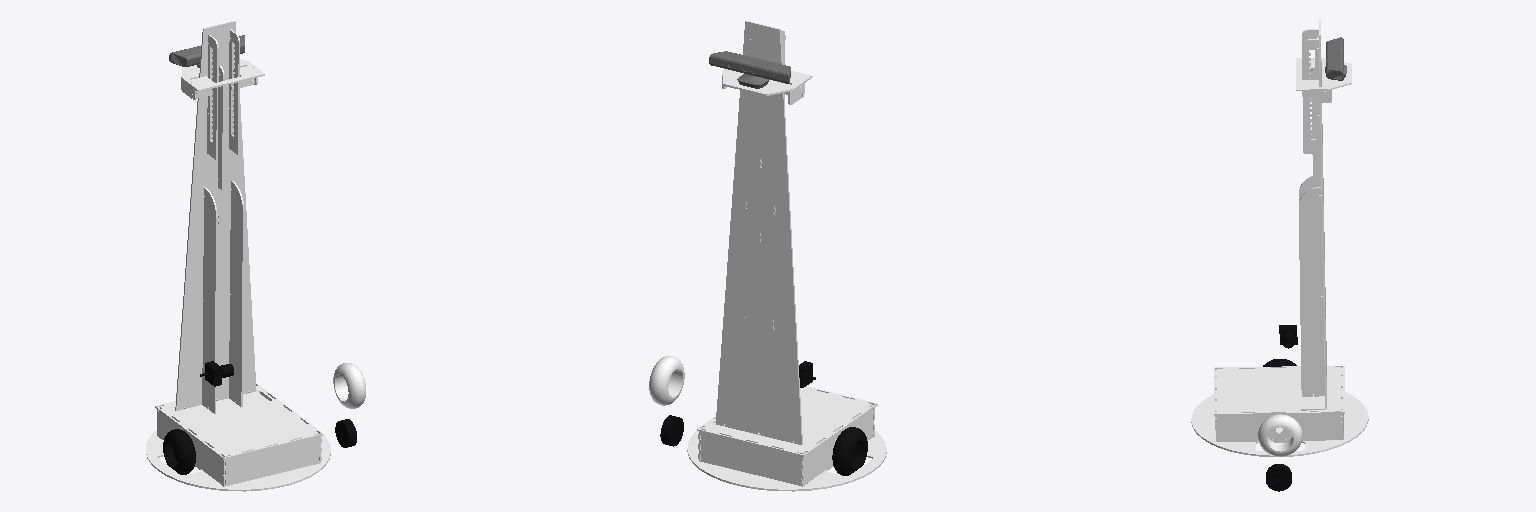
--- Facts derived from the render (not from the file) ---
The picture shows the robot from 3 angles, left to right: view 1: azimuth 30°, elevation 25°; view 2: azimuth 150°, elevation 25°; view 3: azimuth 270°, elevation 25°; orthographic projection.
Robot: robot_desc2 — 25 links, 24 joints (2 continuous, 22 fixed); root link base_link; default pose: every joint at zero.
Links seen in each view (by area): view 1: BBone, UWall, LBBone, RBBone, FWall, base_link, LWheel, LElevator, RWheel, RWall, RElevator, Stage (+3 smaller); view 2: BBone, UWall, BWall, base_link, Kinect, LWheel, RWheel, RWall, Stage, LHolder; view 3: UWall, LBBone, base_link, LWall, LElevator, LWheel, Stage, BBone, Kinect, LHolder.
Boxes of the visible links, left/top/right/bottom form: BBone: left=175, top=21, right=256, bottom=410; UWall: left=155, top=383, right=322, bottom=459; LBBone: left=229, top=181, right=244, bottom=407; RBBone: left=202, top=187, right=217, bottom=413; FWall: left=223, top=436, right=320, bottom=486; base_link: left=146, top=427, right=330, bottom=491; LWheel: left=333, top=363, right=365, bottom=408; LElevator: left=229, top=29, right=239, bottom=154; RWheel: left=163, top=429, right=195, bottom=474; RWall: left=157, top=411, right=224, bottom=485; RElevator: left=207, top=35, right=218, bottom=159; Stage: left=181, top=59, right=264, bottom=91; BBone: left=716, top=21, right=802, bottom=444; UWall: left=697, top=386, right=877, bottom=456; BWall: left=699, top=432, right=803, bottom=486; base_link: left=687, top=431, right=886, bottom=491; Kinect: left=709, top=51, right=790, bottom=88; LWheel: left=649, top=356, right=684, bottom=405; RWheel: left=832, top=427, right=867, bottom=475; RWall: left=801, top=409, right=873, bottom=485; Stage: left=722, top=69, right=812, bottom=95; LHolder: left=660, top=415, right=683, bottom=446; UWall: left=1214, top=366, right=1344, bottom=415; LBBone: left=1299, top=187, right=1324, bottom=396; base_link: left=1191, top=392, right=1368, bottom=456; LWall: left=1215, top=414, right=1343, bottom=442; LElevator: left=1302, top=39, right=1320, bottom=153; LWheel: left=1258, top=414, right=1302, bottom=456; Stage: left=1296, top=58, right=1351, bottom=90; BBone: left=1319, top=20, right=1326, bottom=408; Kinect: left=1325, top=37, right=1346, bottom=80; LHolder: left=1266, top=464, right=1291, bottom=491.
Size in the robot's own frame: 0.7472 by 0.5995 by 1.54 metres.
Meshes: 24 distinct files referenced, 24 mesh visuals loaded (24 binary STL).

The robot description file, URDF, robot "robot_desc2":
<?xml version="1.0" encoding="utf-8"?>
<!-- This URDF was automatically created by SolidWorks to URDF Exporter! Originally created by Stephen Brawner ([email redacted]) 
     Commit Version: 1.6.0-1-g15f4949  Build Version: 1.6.7594.29634
     For more information, please see http://wiki.ros.org/sw_urdf_exporter -->
<robot
  name="robot_desc2">
  <link
    name="base_link">
    <inertial>
      <origin
        xyz="-0.00309 0.032154 -0.00080422"
        rpy="0 0 0" />
      <mass
        value="1.5096" />
      <inertia
        ixx="0.036974"
        ixy="-4.5139E-09"
        ixz="2.8E-07"
        iyy="0.066747"
        iyz="0.00059586"
        izz="0.029801" />
    </inertial>
    <visual>
      <origin
        xyz="0 0 0"
        rpy="0 0 0" />
      <geometry>
        <mesh
          filename="package://robot_desc2/meshes/base_link.STL" />
      </geometry>
      <material
        name="">
        <color
          rgba="1 1 1 1" />
      </material>
    </visual>
    <collision>
      <origin
        xyz="0 0 0"
        rpy="0 0 0" />
      <geometry>
        <mesh
          filename="package://robot_desc2/meshes/base_link.STL" />
      </geometry>
    </collision>
  </link>
  <link
    name="RWall">
    <inertial>
      <origin
        xyz="-0.26007 0.30935 0.054624"
        rpy="0 0 0" />
      <mass
        value="0.25993" />
      <inertia
        ixx="0.0042142"
        ixy="8.2698E-19"
        ixz="-8.7535E-21"
        iyy="0.00023376"
        iyz="-3.1975E-08"
        izz="0.003982" />
    </inertial>
    <visual>
      <origin
        xyz="0 0 0"
        rpy="0 0 0" />
      <geometry>
        <mesh
          filename="package://robot_desc2/meshes/RWall.STL" />
      </geometry>
      <material
        name="">
        <color
          rgba="1 1 1 1" />
      </material>
    </visual>
    <collision>
      <origin
        xyz="0 0 0"
        rpy="0 0 0" />
      <geometry>
        <mesh
          filename="package://robot_desc2/meshes/RWall.STL" />
      </geometry>
    </collision>
  </link>
  <joint
    name="RWall_J"
    type="fixed">
    <origin
      xyz="0.082219 -0.30717 0.024187"
      rpy="0.016122 0 0" />
    <parent
      link="base_link" />
    <child
      link="RWall" />
    <axis
      xyz="0 0 0" />
  </joint>
  <link
    name="RMotor">
    <inertial>
      <origin
        xyz="0.0635746027198063 0.3093063 0.0369188809232349"
        rpy="0 0 0" />
      <mass
        value="0.174311166935646" />
      <inertia
        ixx="7.63049300613636E-05"
        ixy="-2.91448817026934E-20"
        ixz="-8.64726401443752E-07"
        iyy="0.000129582523229778"
        iyz="-2.11758236813575E-22"
        izz="0.000129389175352264" />
    </inertial>
    <visual>
      <origin
        xyz="0 0 0"
        rpy="0 0 0" />
      <geometry>
        <mesh
          filename="package://robot_desc2/meshes/RMotor.STL" />
      </geometry>
      <material
        name="">
        <color
          rgba="0.0980392156862745 0.0980392156862745 0.0980392156862745 1" />
      </material>
    </visual>
    <collision>
      <origin
        xyz="0 0 0"
        rpy="0 0 0" />
      <geometry>
        <mesh
          filename="package://robot_desc2/meshes/RMotor.STL" />
      </geometry>
    </collision>
  </link>
  <joint
    name="RMotor_J"
    type="fixed">
    <origin
      xyz="-0.16351 0.61861 0"
      rpy="0 0 3.1416" />
    <parent
      link="RWall" />
    <child
      link="RMotor" />
    <axis
      xyz="0 0 0" />
  </joint>
  <link
    name="RHolder">
    <inertial>
      <origin
        xyz="-0.015 -1.3878E-17 -6.5052E-19"
        rpy="0 0 0" />
      <mass
        value="0.18623" />
      <inertia
        ixx="0.00019312"
        ixy="2.5799E-37"
        ixz="1.9015E-20"
        iyy="0.00011053"
        iyz="3.7377E-37"
        izz="0.00011053" />
    </inertial>
    <visual>
      <origin
        xyz="0 0 0"
        rpy="0 0 0" />
      <geometry>
        <mesh
          filename="package://robot_desc2/meshes/RHolder.STL" />
      </geometry>
      <material
        name="">
        <color
          rgba="0.098039 0.098039 0.098039 1" />
      </material>
    </visual>
    <collision>
      <origin
        xyz="0 0 0"
        rpy="0 0 0" />
      <geometry>
        <mesh
          filename="package://robot_desc2/meshes/RHolder.STL" />
      </geometry>
    </collision>
  </link>
  <joint
    name="RHolder_J"
    type="fixed">
    <origin
      xyz="0.10957 0.30931 0.04693"
      rpy="1.5547 0 3.1416" />
    <parent
      link="RMotor" />
    <child
      link="RHolder" />
    <axis
      xyz="1 0 0" />
  </joint>
  <link
    name="LWall">
    <inertial>
      <origin
        xyz="0.0963656 0.306947014043264 0.0546235621384063"
        rpy="0 0 0" />
      <mass
        value="0.259931483020872" />
      <inertia
        ixx="0.00421417942511159"
        ixy="5.19830171192504E-19"
        ixz="8.96205254962918E-21"
        iyy="0.000233764744170253"
        iyz="-3.19752741135293E-08"
        izz="0.00398197426983946" />
    </inertial>
    <visual>
      <origin
        xyz="0 0 0"
        rpy="0 0 0" />
      <geometry>
        <mesh
          filename="package://robot_desc2/meshes/LWall.STL" />
      </geometry>
      <material
        name="">
        <color
          rgba="1 1 1 1" />
      </material>
    </visual>
    <collision>
      <origin
        xyz="0 0 0"
        rpy="0 0 0" />
      <geometry>
        <mesh
          filename="package://robot_desc2/meshes/LWall.STL" />
      </geometry>
    </collision>
  </link>
  <joint
    name="LWall"
    type="fixed">
    <origin
      xyz="0.082219 -0.30717 0.024187"
      rpy="0.016122 0 0" />
    <parent
      link="base_link" />
    <child
      link="LWall" />
    <axis
      xyz="0 0 0" />
  </joint>
  <link
    name="LMotor">
    <inertial>
      <origin
        xyz="0.0633746027198063 0.3069061 0.036918880923235"
        rpy="0 0 0" />
      <mass
        value="0.174311166935646" />
      <inertia
        ixx="7.63049300613636E-05"
        ixy="-8.61740218545493E-20"
        ixz="-8.64726401443746E-07"
        iyy="0.000129582523229778"
        iyz="-2.11758236813575E-22"
        izz="0.000129389175352264" />
    </inertial>
    <visual>
      <origin
        xyz="0 0 0"
        rpy="0 0 0" />
      <geometry>
        <mesh
          filename="package://robot_desc2/meshes/LMotor.STL" />
      </geometry>
      <material
        name="">
        <color
          rgba="0.0980392156862745 0.0980392156862745 0.0980392156862745 1" />
      </material>
    </visual>
    <collision>
      <origin
        xyz="0 0 0"
        rpy="0 0 0" />
      <geometry>
        <mesh
          filename="package://robot_desc2/meshes/LMotor.STL" />
      </geometry>
    </collision>
  </link>
  <joint
    name="LMotor_J"
    type="fixed">
    <origin
      xyz="0 0 0"
      rpy="0 0 0" />
    <parent
      link="LWall" />
    <child
      link="LMotor" />
    <axis
      xyz="0 0 0" />
  </joint>
  <link
    name="LHolder">
    <inertial>
      <origin
        xyz="0.015 0 -8.67361737988404E-19"
        rpy="0 0 0" />
      <mass
        value="0.186233612504803" />
      <inertia
        ixx="0.000193124256167481"
        ixy="2.57986041235794E-37"
        ixz="1.90147164257299E-20"
        iyy="0.000110529649021601"
        iyz="3.73766126798668E-37"
        izz="0.000110529649021601" />
    </inertial>
    <visual>
      <origin
        xyz="0 0 0"
        rpy="0 0 0" />
      <geometry>
        <mesh
          filename="package://robot_desc2/meshes/LHolder.STL" />
      </geometry>
      <material
        name="">
        <color
          rgba="0.0980392156862745 0.0980392156862745 0.0980392156862745 1" />
      </material>
    </visual>
    <collision>
      <origin
        xyz="0 0 0"
        rpy="0 0 0" />
      <geometry>
        <mesh
          filename="package://robot_desc2/meshes/LHolder.STL" />
      </geometry>
    </collision>
  </link>
  <joint
    name="LHolder_J"
    type="fixed">
    <origin
      xyz="0.10937 0.30691 0.04693"
      rpy="1.5547 0 0" />
    <parent
      link="LMotor" />
    <child
      link="LHolder" />
    <axis
      xyz="1 0 0" />
  </joint>
  <link
    name="FWall">
    <inertial>
      <origin
        xyz="-0.0834212256064657 0.0938861000000002 0.0545396939287937"
        rpy="0 0 0" />
      <mass
        value="0.22086451023762" />
      <inertia
        ixx="0.000198305308587292"
        ixy="-4.89506874945099E-20"
        ixz="-4.72815915055346E-08"
        iyy="0.00254369619199725"
        iyz="6.7762635780344E-21"
        izz="0.00234671607047139" />
    </inertial>
    <visual>
      <origin
        xyz="0 0 0"
        rpy="0 0 0" />
      <geometry>
        <mesh
          filename="package://robot_desc2/meshes/FWall.STL" />
      </geometry>
      <material
        name="">
        <color
          rgba="1 1 1 1" />
      </material>
    </visual>
    <collision>
      <origin
        xyz="0 0 0"
        rpy="0 0 0" />
      <geometry>
        <mesh
          filename="package://robot_desc2/meshes/FWall.STL" />
      </geometry>
    </collision>
  </link>
  <joint
    name="FWall_J"
    type="fixed">
    <origin
      xyz="0.0822192517167714 -0.307167638392834 0.0241874937534729"
      rpy="0.0161222628924041 0 0" />
    <parent
      link="base_link" />
    <child
      link="FWall" />
    <axis
      xyz="0 0 0" />
  </joint>
  <link
    name="BWall">
    <inertial>
      <origin
        xyz="-0.0837958256064657 0.5201261 0.0545396939287938"
        rpy="0 0 0" />
      <mass
        value="0.220864510237622" />
      <inertia
        ixx="0.000198305308587294"
        ixy="-3.63112643371231E-20"
        ixz="-4.72815915055665E-08"
        iyy="0.00254369619199728"
        iyz="-3.3881317890172E-20"
        izz="0.00234671607047141" />
    </inertial>
    <visual>
      <origin
        xyz="0 0 0"
        rpy="0 0 0" />
      <geometry>
        <mesh
          filename="package://robot_desc2/meshes/BWall.STL" />
      </geometry>
      <material
        name="">
        <color
          rgba="1 1 1 1" />
      </material>
    </visual>
    <collision>
      <origin
        xyz="0 0 0"
        rpy="0 0 0" />
      <geometry>
        <mesh
          filename="package://robot_desc2/meshes/BWall.STL" />
      </geometry>
    </collision>
  </link>
  <joint
    name="BWall_J"
    type="fixed">
    <origin
      xyz="0.0822192517167714 -0.307167638392834 0.0241874937534729"
      rpy="0.0161222628924041 0 0" />
    <parent
      link="base_link" />
    <child
      link="BWall" />
    <axis
      xyz="0 0 0" />
  </joint>
  <link
    name="UWall">
    <inertial>
      <origin
        xyz="-0.0848120800930342 0.30577429822358 0.1090994"
        rpy="0 0 0" />
      <mass
        value="0.950849473887881" />
      <inertia
        ixx="0.015160328757964"
        ixy="0.000110416902811185"
        ixz="-2.2446373102239E-20"
        iyy="0.0106172485278987"
        iyz="8.40256683676266E-19"
        izz="0.0257718721890193" />
    </inertial>
    <visual>
      <origin
        xyz="0 0 0"
        rpy="0 0 0" />
      <geometry>
        <mesh
          filename="package://robot_desc2/meshes/UWall.STL" />
      </geometry>
      <material
        name="">
        <color
          rgba="1 1 1 1" />
      </material>
    </visual>
    <collision>
      <origin
        xyz="0 0 0"
        rpy="0 0 0" />
      <geometry>
        <mesh
          filename="package://robot_desc2/meshes/UWall.STL" />
      </geometry>
    </collision>
  </link>
  <joint
    name="UWall_J"
    type="fixed">
    <origin
      xyz="0.0822192517167714 -0.307167638392834 0.0241874937534729"
      rpy="0.0161222628924041 0 0" />
    <parent
      link="base_link" />
    <child
      link="UWall" />
    <axis
      xyz="0 0 0" />
  </joint>
  <link
    name="BBone">
    <inertial>
      <origin
        xyz="-0.0787827178917998 0.4658796 0.687775610420949"
        rpy="0 0 0" />
      <mass
        value="1.69381947157314" />
      <inertia
        ixx="0.241359185522964"
        ixy="-6.54147800672129E-20"
        ixz="-3.75269982353657E-12"
        iyy="0.248752698140501"
        iyz="2.64274279543342E-18"
        izz="0.00740367553436561" />
    </inertial>
    <visual>
      <origin
        xyz="0 0 0"
        rpy="0 0 0" />
      <geometry>
        <mesh
          filename="package://robot_desc2/meshes/BBone.STL" />
      </geometry>
      <material
        name="">
        <color
          rgba="1 1 1 1" />
      </material>
    </visual>
    <collision>
      <origin
        xyz="0 0 0"
        rpy="0 0 0" />
      <geometry>
        <mesh
          filename="package://robot_desc2/meshes/BBone.STL" />
      </geometry>
    </collision>
  </link>
  <joint
    name="BBone_J"
    type="fixed">
    <origin
      xyz="0 0 0"
      rpy="0 0 0" />
    <parent
      link="UWall" />
    <child
      link="BBone" />
    <axis
      xyz="0 0 0" />
  </joint>
  <link
    name="MBBHinge">
    <inertial>
      <origin
        xyz="-0.0787827178879982 0.449178530210602 1.09683396755806"
        rpy="0 0 0" />
      <mass
        value="0.0784521456427975" />
      <inertia
        ixx="0.00123951914226371"
        ixy="6.8939312862355E-21"
        ixz="-5.24214085130467E-19"
        iyy="0.00123363922526243"
        iyz="-1.41602641529675E-06"
        izz="6.35062987513342E-06" />
    </inertial>
    <visual>
      <origin
        xyz="0 0 0"
        rpy="0 0 0" />
      <geometry>
        <mesh
          filename="package://robot_desc2/meshes/MBBHinge.STL" />
      </geometry>
      <material
        name="">
        <color
          rgba="1 1 1 1" />
      </material>
    </visual>
    <collision>
      <origin
        xyz="0 0 0"
        rpy="0 0 0" />
      <geometry>
        <mesh
          filename="package://robot_desc2/meshes/MBBHinge.STL" />
      </geometry>
    </collision>
  </link>
  <joint
    name="MBBHinge_J"
    type="fixed">
    <origin
      xyz="0 0 0"
      rpy="0 0 0" />
    <parent
      link="BBone" />
    <child
      link="MBBHinge" />
    <axis
      xyz="0 0 0" />
  </joint>
  <link
    name="RElevator">
    <inertial>
      <origin
        xyz="-0.118782717887998 0.432755373756842 1.2206750396997"
        rpy="0 0 0" />
      <mass
        value="0.120380143662927" />
      <inertia
        ixx="0.00202358604897058"
        ixy="1.14490073557874E-22"
        ixz="-9.03439660911969E-20"
        iyy="0.00197948344561233"
        iyz="-3.19340679459731E-06"
        izz="4.48248842202339E-05" />
    </inertial>
    <visual>
      <origin
        xyz="0 0 0"
        rpy="0 0 0" />
      <geometry>
        <mesh
          filename="package://robot_desc2/meshes/RElevator.STL" />
      </geometry>
      <material
        name="">
        <color
          rgba="1 1 1 1" />
      </material>
    </visual>
    <collision>
      <origin
        xyz="0 0 0"
        rpy="0 0 0" />
      <geometry>
        <mesh
          filename="package://robot_desc2/meshes/RElevator.STL" />
      </geometry>
    </collision>
  </link>
  <joint
    name="RElevator_J"
    type="fixed">
    <origin
      xyz="0 0 0"
      rpy="0 0 0" />
    <parent
      link="BBone" />
    <child
      link="RElevator" />
    <axis
      xyz="0 0 0" />
  </joint>
  <link
    name="RBCover">
    <inertial>
      <origin
        xyz="-0.151597026310095 0.435 1.20306288528394"
        rpy="0 0 0" />
      <mass
        value="0.0213060018725367" />
      <inertia
        ixx="4.87039064175613E-06"
        ixy="-6.46855239016468E-22"
        ixz="6.12560983430486E-07"
        iyy="1.42979171119072E-05"
        iyz="-1.44260298829248E-21"
        izz="9.55536248138631E-06" />
    </inertial>
    <visual>
      <origin
        xyz="0 0 0"
        rpy="0 0 0" />
      <geometry>
        <mesh
          filename="package://robot_desc2/meshes/RBCover.STL" />
      </geometry>
      <material
        name="">
        <color
          rgba="1 1 1 1" />
      </material>
    </visual>
    <collision>
      <origin
        xyz="0 0 0"
        rpy="0 0 0" />
      <geometry>
        <mesh
          filename="package://robot_desc2/meshes/RBCover.STL" />
      </geometry>
    </collision>
  </link>
  <joint
    name="RBCover_J"
    type="fixed">
    <origin
      xyz="-0.00378271788799672 -0.00312040000000041 0.0566252457261201"
      rpy="0 0 0" />
    <parent
      link="RElevator" />
    <child
      link="RBCover" />
    <axis
      xyz="0 0 0" />
  </joint>
  <link
    name="RBWall">
    <inertial>
      <origin
        xyz="-0.190000055730344 0.464457316351892 1.20478878755067"
        rpy="0 0 0" />
      <mass
        value="0.02592607709171" />
      <inertia
        ixx="2.2145918999036E-05"
        ixy="-4.34433994599648E-22"
        ixz="1.66665387127263E-22"
        iyy="5.60309159155988E-06"
        iyz="1.87271315746657E-07"
        izz="1.66983838700264E-05" />
    </inertial>
    <visual>
      <origin
        xyz="0 0 0"
        rpy="0 0 0" />
      <geometry>
        <mesh
          filename="package://robot_desc2/meshes/RBWall.STL" />
      </geometry>
      <material
        name="">
        <color
          rgba="1 1 1 1" />
      </material>
    </visual>
    <collision>
      <origin
        xyz="0 0 0"
        rpy="0 0 0" />
      <geometry>
        <mesh
          filename="package://robot_desc2/meshes/RBWall.STL" />
      </geometry>
    </collision>
  </link>
  <joint
    name="RBWall_J"
    type="fixed">
    <origin
      xyz="0 0 0"
      rpy="0 0 0" />
    <parent
      link="RBCover" />
    <child
      link="RBWall" />
    <axis
      xyz="0 0 0" />
  </joint>
  <link
    name="LElevator">
    <inertial>
      <origin
        xyz="-0.0387827178879983 0.432755373756842 1.2206750396997"
        rpy="0 0 0" />
      <mass
        value="0.120380143662931" />
      <inertia
        ixx="0.00202358604897065"
        ixy="2.80050121403474E-22"
        ixz="-9.34089010374759E-20"
        iyy="0.00197948344561239"
        iyz="-3.19340679459742E-06"
        izz="4.48248842202354E-05" />
    </inertial>
    <visual>
      <origin
        xyz="0 0 0"
        rpy="0 0 0" />
      <geometry>
        <mesh
          filename="package://robot_desc2/meshes/LElevator.STL" />
      </geometry>
      <material
        name="">
        <color
          rgba="1 1 1 1" />
      </material>
    </visual>
    <collision>
      <origin
        xyz="0 0 0"
        rpy="0 0 0" />
      <geometry>
        <mesh
          filename="package://robot_desc2/meshes/LElevator.STL" />
      </geometry>
    </collision>
  </link>
  <joint
    name="LElevator_J"
    type="fixed">
    <origin
      xyz="0 0 0"
      rpy="0 0 0" />
    <parent
      link="BBone" />
    <child
      link="LElevator" />
    <axis
      xyz="0 0 0" />
  </joint>
  <link
    name="LBCover">
    <inertial>
      <origin
        xyz="0.00159702631009202 0.435000000000001 1.20306288528394"
        rpy="0 0 0" />
      <mass
        value="0.0213060018725367" />
      <inertia
        ixx="4.87039064175611E-06"
        ixy="1.09022404734489E-21"
        ixz="-6.12560983430432E-07"
        iyy="1.4297917111907E-05"
        iyz="-1.45583787809333E-21"
        izz="9.55536248138611E-06" />
    </inertial>
    <visual>
      <origin
        xyz="0 0 0"
        rpy="0 0 0" />
      <geometry>
        <mesh
          filename="package://robot_desc2/meshes/LBCover.STL" />
      </geometry>
      <material
        name="">
        <color
          rgba="1 1 1 1" />
      </material>
    </visual>
    <collision>
      <origin
        xyz="0 0 0"
        rpy="0 0 0" />
      <geometry>
        <mesh
          filename="package://robot_desc2/meshes/LBCover.STL" />
      </geometry>
    </collision>
  </link>
  <joint
    name="LBCover_J"
    type="fixed">
    <origin
      xyz="-0.0037827 -0.0031204 0.056625"
      rpy="0 0 0" />
    <parent
      link="LElevator" />
    <child
      link="LBCover" />
    <axis
      xyz="0 0 0" />
  </joint>
  <link
    name="LBWall">
    <inertial>
      <origin
        xyz="0.0400000557303411 0.464457316351892 1.20478878755067"
        rpy="0 0 0" />
      <mass
        value="0.0259260770917091" />
      <inertia
        ixx="2.21459189990352E-05"
        ixy="-1.4358920969894E-21"
        ixz="2.6851133953307E-20"
        iyy="5.60309159155971E-06"
        iyz="1.87271315746579E-07"
        izz="1.66983838700257E-05" />
    </inertial>
    <visual>
      <origin
        xyz="0 0 0"
        rpy="0 0 0" />
      <geometry>
        <mesh
          filename="package://robot_desc2/meshes/LBWall.STL" />
      </geometry>
      <material
        name="">
        <color
          rgba="1 1 1 1" />
      </material>
    </visual>
    <collision>
      <origin
        xyz="0 0 0"
        rpy="0 0 0" />
      <geometry>
        <mesh
          filename="package://robot_desc2/meshes/LBWall.STL" />
      </geometry>
    </collision>
  </link>
  <joint
    name="LBWall_J"
    type="fixed">
    <origin
      xyz="0 0 0"
      rpy="0 0 0" />
    <parent
      link="LBCover" />
    <child
      link="LBWall" />
    <axis
      xyz="0 0 0" />
  </joint>
  <link
    name="Stage">
    <inertial>
      <origin
        xyz="-0.0750000000000013 0.480343747910807 1.231"
        rpy="0 0 0" />
      <mass
        value="0.211120351736145" />
      <inertia
        ixx="0.000655067411968549"
        ixy="1.78554993831274E-18"
        ixz="7.11454880084177E-22"
        iyy="0.00109847839714028"
        iyz="3.01543729222531E-19"
        izz="0.00175227908699841" />
    </inertial>
    <visual>
      <origin
        xyz="0 0 0"
        rpy="0 0 0" />
      <geometry>
        <mesh
          filename="package://robot_desc2/meshes/Stage.STL" />
      </geometry>
      <material
        name="">
        <color
          rgba="1 1 1 1" />
      </material>
    </visual>
    <collision>
      <origin
        xyz="0 0 0"
        rpy="0 0 0" />
      <geometry>
        <mesh
          filename="package://robot_desc2/meshes/Stage.STL" />
      </geometry>
    </collision>
  </link>
  <joint
    name="Stage_J"
    type="fixed">
    <origin
      xyz="-0.0037827 -0.0031204 0.056625"
      rpy="0 0 0" />
    <parent
      link="BBone" />
    <child
      link="Stage" />
    <axis
      xyz="0 0 0" />
  </joint>
  <link
   name="Kinect">
    <inertial>
      <origin
        xyz="4.52836356561845E-05 0.00225040359550244 0.0310718193123996"
        rpy="0 0 0" />
      <mass
        value="0.658662600748487" />
      <inertia
        ixx="0.000269654836796406"
        ixy="9.35627651229598E-07"
        ixz="-4.36299238413064E-08"
        iyy="0.00298640049257821"
        iyz="5.71453317266783E-06"
        izz="0.00311136626737699" />
    </inertial>
    <visual>
      <origin
        xyz="0 0 0"
        rpy="0 0 0" />
      <geometry>
        <mesh
          filename="package://robot_desc2/meshes/Kinect.STL" />
      </geometry>
      <material
        name="">
        <color
          rgba="0.494117647058824 0.494117647058824 0.494117647058824 1" />
      </material>
    </visual>
    <collision>
      <origin
        xyz="0 0 0"
        rpy="0 0 0" />
      <geometry>
        <mesh
          filename="package://robot_desc2/meshes/Kinect.STL" />
      </geometry>
    </collision>
  </link>
  <joint
    name="Kinect_J"
    type="fixed">
    <origin
      xyz="-0.075 0.52225 1.248"
      rpy="0 0 3.1416" />
    <parent
      link="Stage" />
    <child
      link="Kinect" />
    <axis
      xyz="0 0 0" />
  </joint>

   <link
   name="camera_link">
    <inertial>
      <origin
        xyz="0 0 0"
        rpy="0 0 0" />
      <mass
        value="0" />
      <inertia
        ixx="0"
        ixy="0"
        ixz="0"
        iyy="0"
        iyz="0"
        izz="0" />
    </inertial>
    <visual>
      <origin
        xyz="0 0 0"
        rpy="0 0 0" />
    </visual>
  </link>
  <joint
    name="camera_link_joint"
    type="fixed">
    <origin
      xyz="0 0 0"
      rpy="0 0 -1.57" />
    <parent
      link="Kinect" />
    <child
      link="camera_link" />
    <axis
      xyz="0 0 0" />
  </joint>


  <link
    name="RBBone">
    <inertial>
      <origin
        xyz="-0.12878275 0.423830416863484 0.492738221550915"
        rpy="0 0 0" />
      <mass
        value="0.364837635287879" />
      <inertia
        ixx="0.0181196346933366"
        ixy="-1.2269351145855E-20"
        ixz="9.12314016495178E-21"
        iyy="0.0179305052054176"
        iyz="-8.50071245241008E-05"
        izz="0.000191318513730686" />
    </inertial>
    <visual>
      <origin
        xyz="0 0 0"
        rpy="0 0 0" />
      <geometry>
        <mesh
          filename="package://robot_desc2/meshes/RBBone.STL" />
      </geometry>
      <material
        name="">
        <color
          rgba="1 1 1 1" />
      </material>
    </visual>
    <collision>
      <origin
        xyz="0 0 0"
        rpy="0 0 0" />
      <geometry>
        <mesh
          filename="package://robot_desc2/meshes/RBBone.STL" />
      </geometry>
    </collision>
  </link>
  <joint
    name="RBBone_J"
    type="fixed">
    <origin
      xyz="0 0 0"
      rpy="0 0 0" />
    <parent
      link="UWall" />
    <child
      link="RBBone" />
    <axis
      xyz="0 0 0" />
  </joint>
  <link
    name="LBBone">
    <inertial>
      <origin
        xyz="-0.0287827500000005 0.423830416863484 0.492738221550913"
        rpy="0 0 0" />
      <mass
        value="0.364837635287876" />
      <inertia
        ixx="0.0181196346933365"
        ixy="-2.05096590819343E-19"
        ixz="-3.55223997282831E-18"
        iyy="0.0179305052054175"
        iyz="-8.50071245240919E-05"
        izz="0.000191318513730684" />
    </inertial>
    <visual>
      <origin
        xyz="0 0 0"
        rpy="0 0 0" />
      <geometry>
        <mesh
          filename="package://robot_desc2/meshes/LBBone.STL" />
      </geometry>
      <material
        name="">
        <color
          rgba="1 1 1 1" />
      </material>
    </visual>
    <collision>
      <origin
        xyz="0 0 0"
        rpy="0 0 0" />
      <geometry>
        <mesh
          filename="package://robot_desc2/meshes/LBBone.STL" />
      </geometry>
    </collision>
  </link>
  <joint
    name="LBBone_J"
    type="fixed">
    <origin
      xyz="0 0 0"
      rpy="0 0 0" />
    <parent
      link="UWall" />
    <child
      link="LBBone" />
    <axis
      xyz="0 0 0" />
  </joint>
  <link
    name="RWheel">
    <inertial>
      <origin
        xyz="-0.0310000000000001 1.80411241501588E-16 -1.64798730217797E-17"
        rpy="0 0 0" />
      <mass
        value="0.551599291315901" />
      <inertia
        ixx="0.00197797363499529"
        ixy="-4.78762120572077E-18"
        ixz="4.81482486096809E-35"
        iyy="0.00111551247187228"
        iyz="2.71050543121376E-20"
        izz="0.00111551247187228" />
    </inertial>
    <visual>
      <origin
        xyz="0 0 0"
        rpy="0 0 0" />
      <geometry>
        <mesh
          filename="package://robot_desc2/meshes/RWheel.STL" />
      </geometry>
      <material
        name="">
        <color
          rgba="0.0980392156862745 0.0980392156862745 0.0980392156862745 1" />
      </material>
    </visual>
    <collision>
      <origin
        xyz="0 0 0"
        rpy="0 0 0" />
      <geometry>
        <mesh
          filename="package://robot_desc2/meshes/RWheel.STL" />
      </geometry>
    </collision>
  </link>
  <joint
    name="RWheel_J"
    type="continuous">
    <origin
      xyz="-0.19086 0.0013419 0.076098"
      rpy="1.4527 0 0" />
    <parent
      link="base_link" />
    <child
      link="RWheel" />
    <axis
      xyz="1 0 0" />
  </joint>
  <link
    name="LWheel">
    <inertial>
      <origin
        xyz="0 0 0"
        rpy="0 0 0" />
      <mass
        value="0" />
      <inertia
        ixx="0"
        ixy="0"
        ixz="0"
        iyy="0"
        iyz="0"
        izz="0" />
    </inertial>
    <visual>
      <origin
        xyz="0 0 0"
        rpy="0 0 0" />
      <geometry>
        <mesh
          filename="package://robot_desc2/meshes/LWheel.STL" />
      </geometry>
      <material
        name="">
        <color
          rgba="1 1 1 1" />
      </material>
    </visual>
    <collision>
      <origin
        xyz="0 0 0"
        rpy="0 0 0" />
      <geometry>
        <mesh
          filename="package://robot_desc2/meshes/LWheel.STL" />
      </geometry>
    </collision>
  </link>
  <joint
    name="LWheel_J"
    type="continuous">
    <origin
      xyz="0.19158 -0.001058 0.076059"
      rpy="-1.2758 0 0" />
    <parent
      link="base_link" />
    <child
      link="LWheel" />
    <axis
      xyz="1 0 0" />
  </joint>
</robot>
